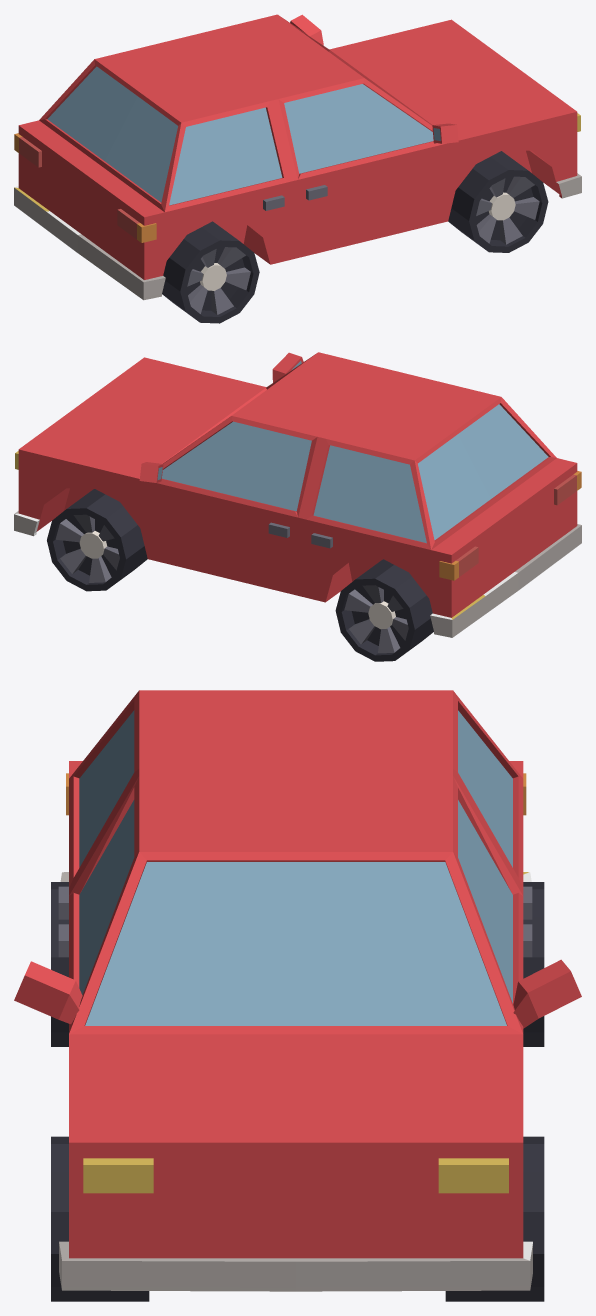
The model's file is car2.fbx.
The picture shows the model from 3 angles, top to bottom: view 1: azimuth 30°, elevation 25°; view 2: azimuth 150°, elevation 25°; view 3: azimuth 270°, elevation 25°; orthographic projection. The views are drawn at different scales.
Parts seen in each view (by area): view 1: Cylinder.001, Cylinder.011, Cylinder.008, Cylinder.007, Cylinder.006, Cylinder.004, Cylinder.010, Cylinder.009; view 2: Cylinder.001, Cylinder.011, Cylinder, Cylinder.002, Cylinder.004, Cylinder.006, Cylinder.010, Cylinder.009; view 3: Cylinder.011, Cylinder.001, Cylinder, Cylinder.008, Cylinder.009, Cylinder.010, Cylinder.005, Cylinder.003, Cylinder.002, Cylinder.007.
Part boxes in pixels (x1,y1,x2,y2): Cylinder.001: [14, 19, 581, 300]; Cylinder.011: [39, 14, 446, 212]; Cylinder.008: [448, 151, 548, 252]; Cylinder.007: [162, 221, 259, 323]; Cylinder.006: [117, 209, 156, 242]; Cylinder.004: [14, 133, 41, 167]; Cylinder.010: [432, 123, 458, 143]; Cylinder.009: [290, 14, 323, 45]; Cylinder.001: [14, 357, 581, 637]; Cylinder.011: [157, 352, 556, 549]; Cylinder: [47, 489, 147, 591]; Cylinder.002: [335, 559, 433, 661]; Cylinder.004: [439, 546, 478, 580]; Cylinder.006: [554, 471, 581, 505]; Cylinder.010: [272, 352, 303, 382]; Cylinder.009: [139, 462, 163, 482]; Cylinder.011: [69, 690, 523, 1034]; Cylinder.001: [59, 761, 532, 1291]; Cylinder: [445, 1136, 544, 1301]; Cylinder.008: [51, 1136, 149, 1301]; Cylinder.009: [513, 959, 581, 1028]; Cylinder.010: [14, 961, 82, 1024]; Cylinder.005: [83, 1158, 153, 1193]; Cylinder.003: [438, 1158, 508, 1193]; Cylinder.002: [523, 882, 544, 1046]; Cylinder.007: [51, 882, 68, 1046].
Bounding box in the file's own units: 516 × 207 × 316.
